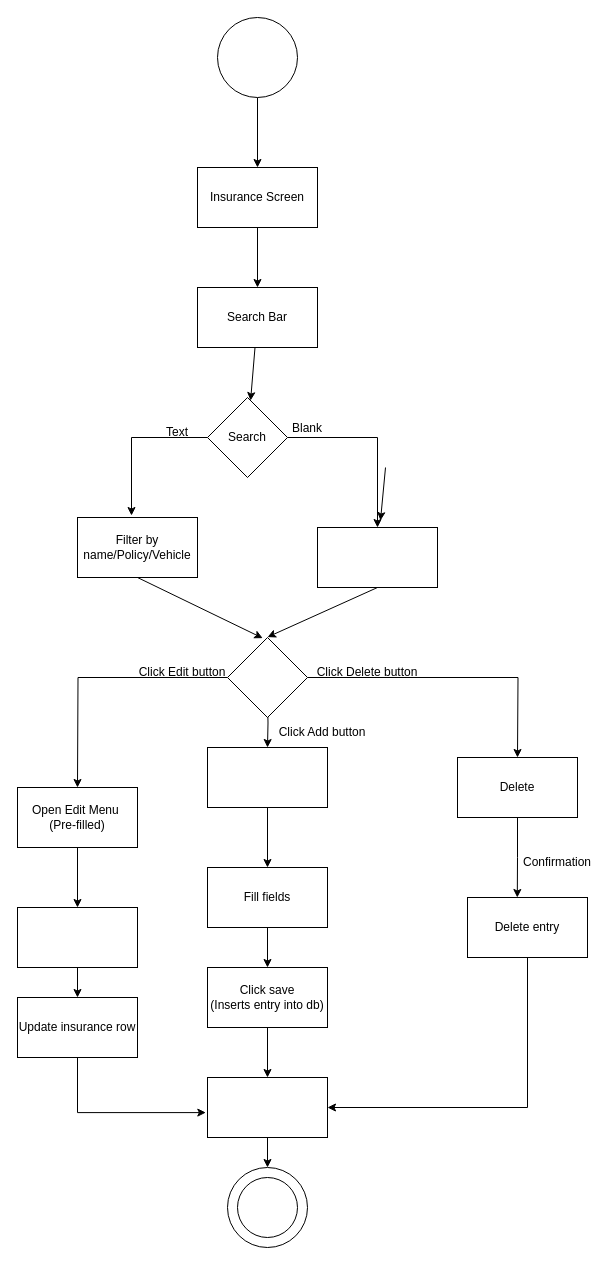
The diagram is 609 pixels wide and 1265 high, and some of its shapes have lost their labels. Each missing label, with the centre of its shape:
"Action Per row" belongs at (267,677).
"Click Update" belongs at (77,937).
"List all entries" belongs at (377,557).
"Open Add menu (Empty)" belongs at (267,777).
"Refresh List" belongs at (267,1107).
